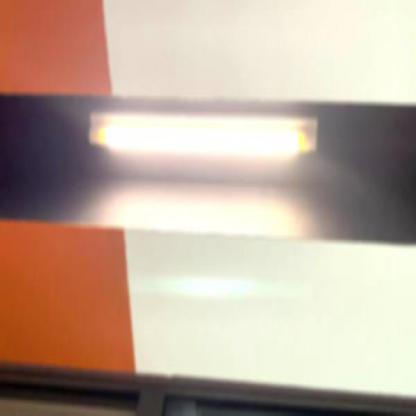light_on: (84, 92, 323, 172)
